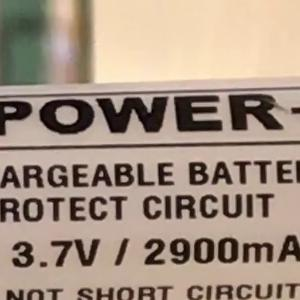3.7V: (2, 229, 107, 278)
